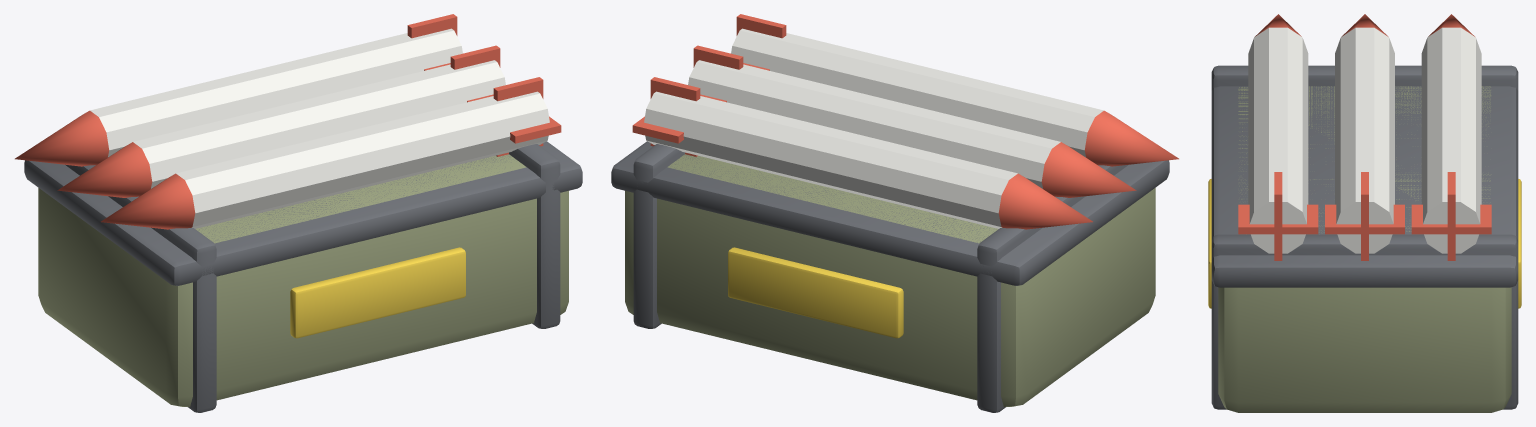
File: crate_rockets.glb
The picture shows the model from 3 angles, left to right: view 1: azimuth 30°, elevation 25°; view 2: azimuth 150°, elevation 25°; view 3: azimuth 270°, elevation 25°; orthographic projection.
Visible parts, largest first — view 1: crate_rockets; view 2: crate_rockets; view 3: crate_rockets.
Part boxes in pixels (x1,y1,x2,y2): crate_rockets: (15, 14, 582, 412); crate_rockets: (611, 14, 1178, 412); crate_rockets: (1208, 14, 1521, 412).
Size of the model in its own units: 0.79 by 0.37 by 0.47.
